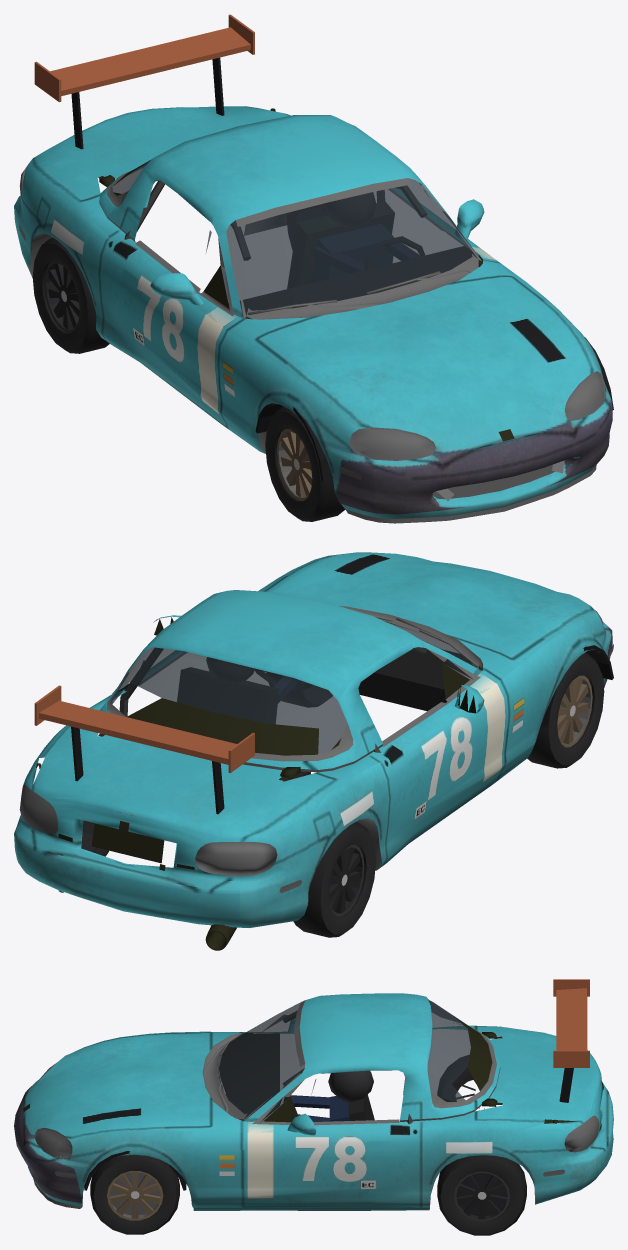
3 renders of one model, top to bottom at view 1: azimuth 30°, elevation 25°; view 2: azimuth 150°, elevation 25°; view 3: azimuth 270°, elevation 25°, orthographic. The views are drawn at different scales.
Parts seen in each view (by area): view 1: body, wheel_rr, wheel_fr; view 2: body, wheel_rr, wheel_fr, wheel_fl; view 3: body, wheel_rl, wheel_fl, wheel_rr.
Part boxes in pixels (left/top/right/bottom): body: left=14, top=14, right=613, bottom=523; wheel_rr: left=32, top=238, right=109, bottom=353; wheel_fr: left=265, top=406, right=345, bottom=521; body: left=14, top=552, right=613, bottom=950; wheel_rr: left=293, top=821, right=375, bottom=937; wheel_fr: left=527, top=652, right=604, bottom=768; wheel_fl: left=266, top=672, right=332, bottom=707; body: left=14, top=979, right=613, bottom=1210; wheel_rl: left=437, top=1155, right=526, bottom=1235; wheel_fl: left=90, top=1154, right=179, bottom=1234; wheel_rr: left=437, top=1055, right=496, bottom=1108.
Bounding box in the file's own units: 1.87 × 1.22 × 3.92.
Materials: 2 (1 with a texture image).
